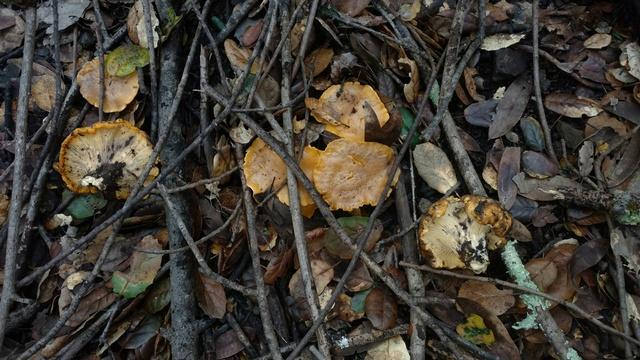edible_mushroom: (311, 78, 397, 209), (57, 118, 160, 200), (416, 193, 515, 274)
